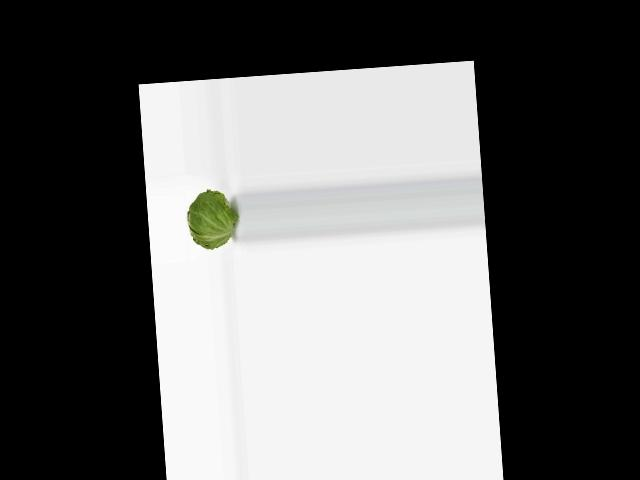lettuce: (184, 186, 233, 254)
